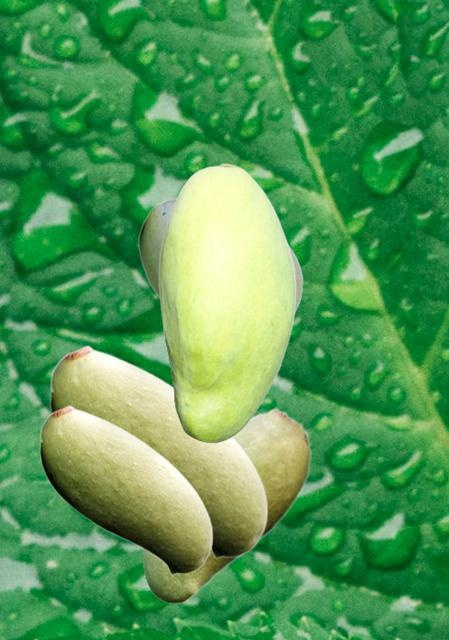green_mango: (49, 344, 267, 558), (158, 163, 295, 442), (142, 407, 310, 602), (39, 404, 212, 574), (138, 197, 302, 312)
